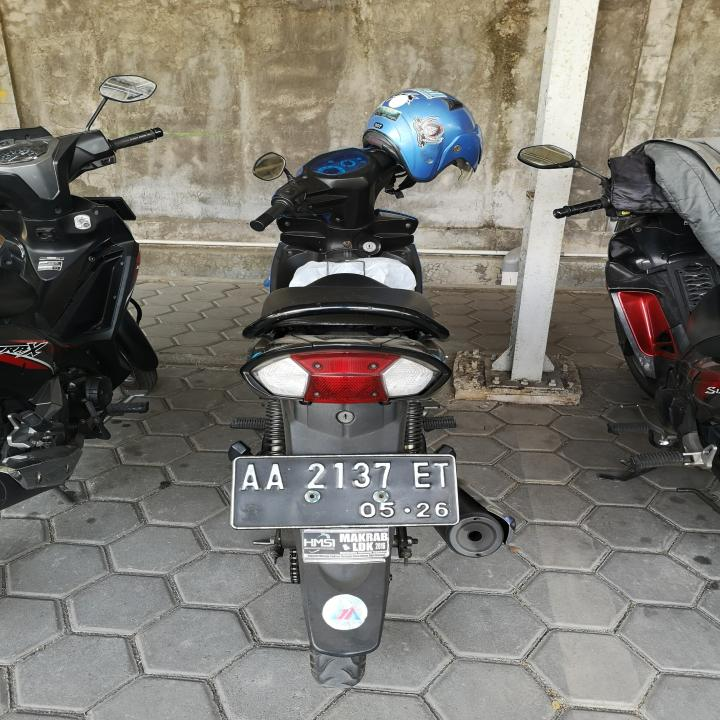plate: (224, 450, 463, 528)
